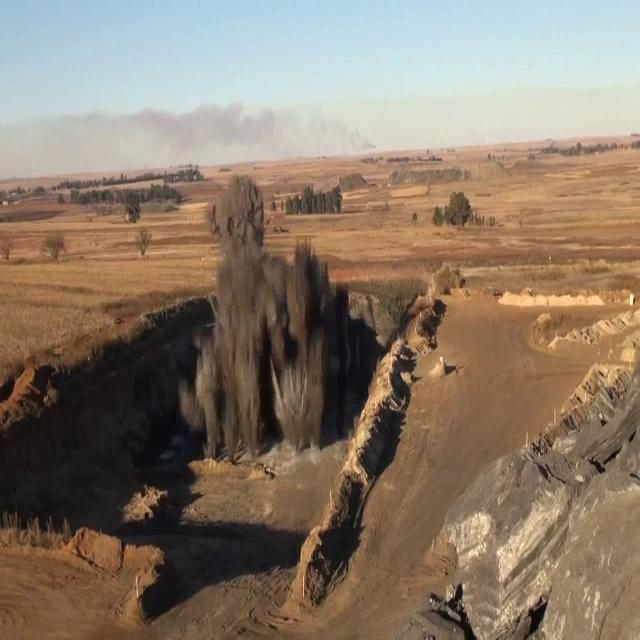explosion: (142, 94, 385, 510)
